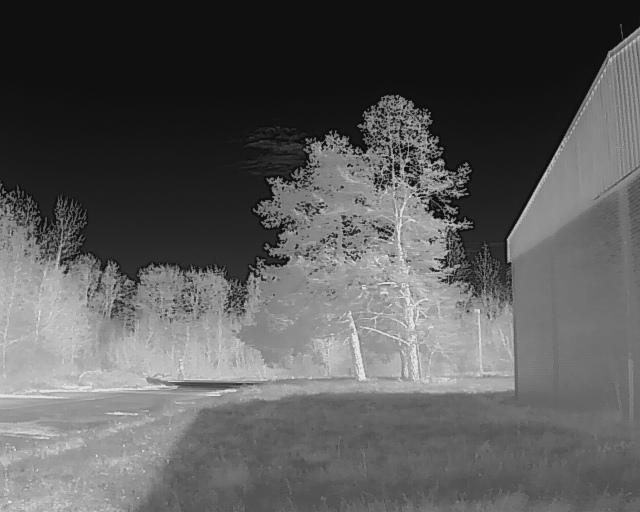drone: (353, 276, 407, 301)
